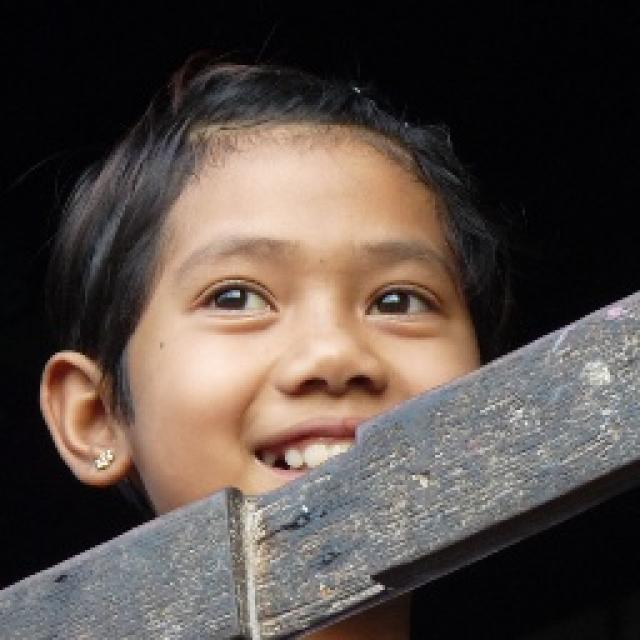earlobe: (91, 436, 126, 486)
eye: (195, 279, 277, 317), (364, 283, 444, 320)
nose: (276, 373, 399, 425)
wholeear: (38, 350, 126, 487)
